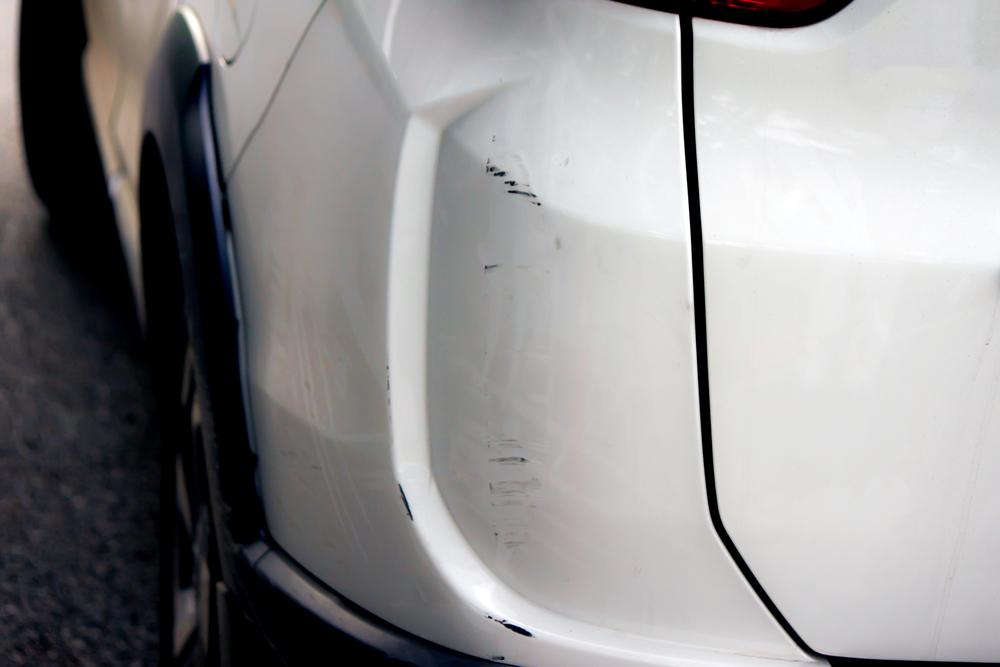scratch: (471, 137, 563, 560), (484, 609, 545, 643), (394, 477, 419, 528)
